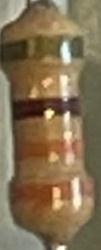Brown: (12, 94, 82, 122)
Orange: (9, 176, 94, 206), (13, 134, 85, 165)
Side-Gold: (1, 31, 85, 65)
